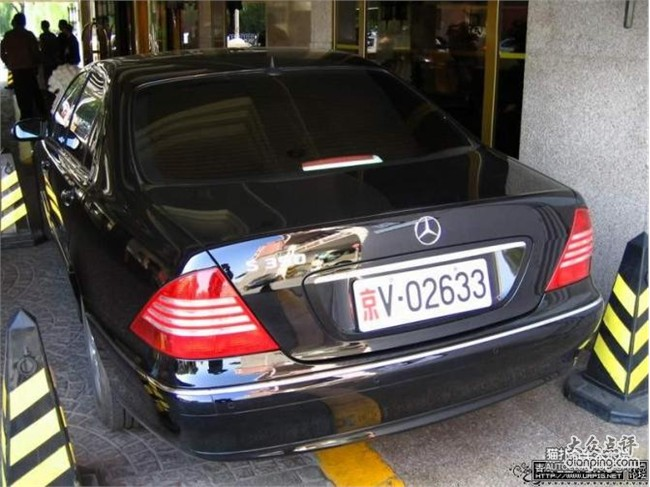plate_number: (353, 258, 496, 326)
